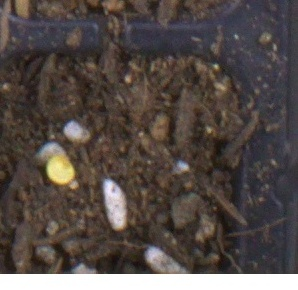chilli seed: (45, 154, 76, 185)
